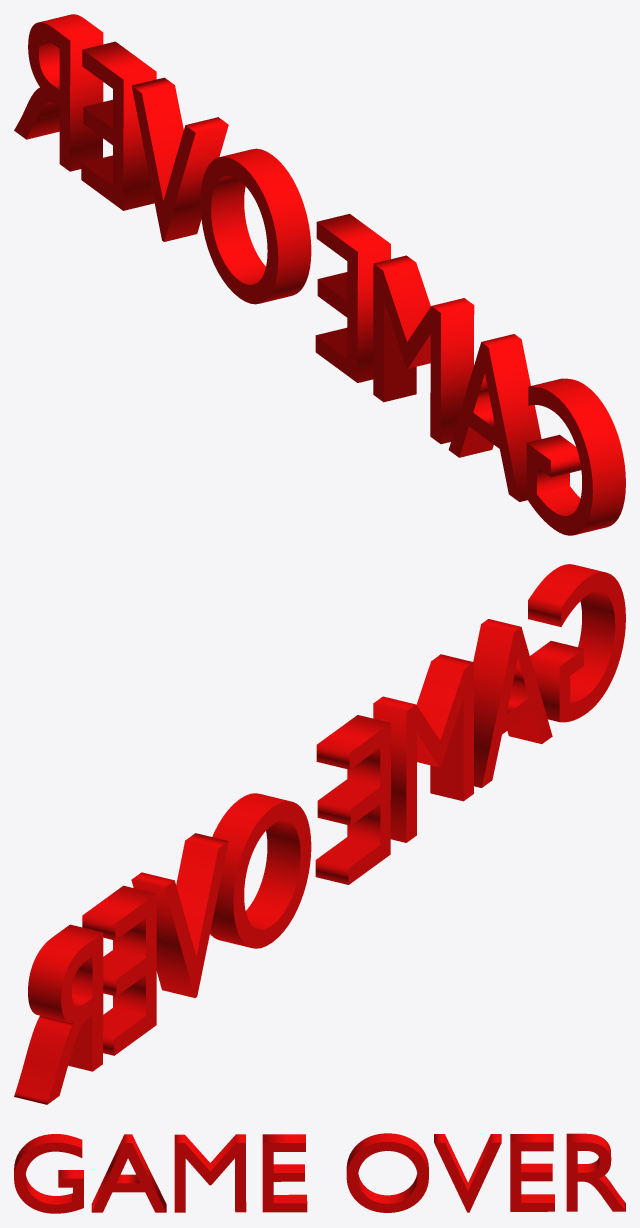
File: GameOver.obj
3 renders of one model, top to bottom at view 1: azimuth 30°, elevation 25°; view 2: azimuth 150°, elevation 25°; view 3: azimuth 270°, elevation 25°, orthographic. The views are drawn at different scales.
Visible parts, largest first — view 1: GameOver; view 2: GameOver; view 3: GameOver.
Part boxes in pixels (box(x1,y1,x2,y2)): GameOver: box(14, 14, 625, 535); GameOver: box(14, 564, 625, 1104); GameOver: box(14, 1133, 625, 1213).
Size of the model in its own units: 0.1637 by 0.6342 by 4.89.
